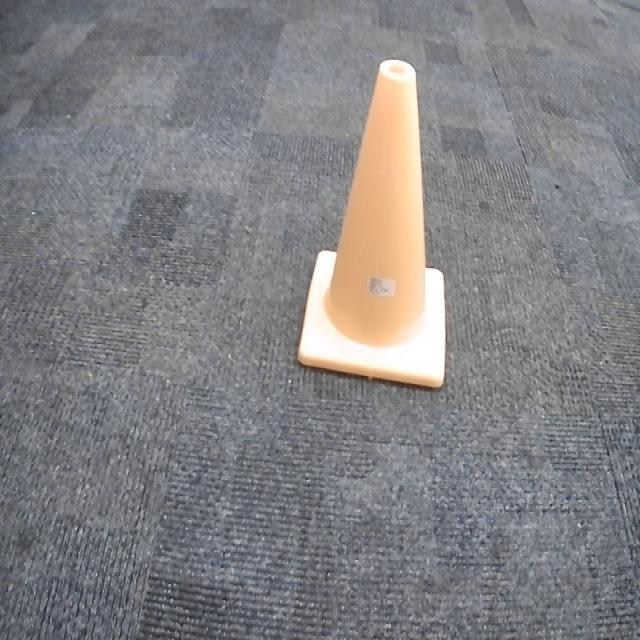cone: (292, 49, 451, 400)
